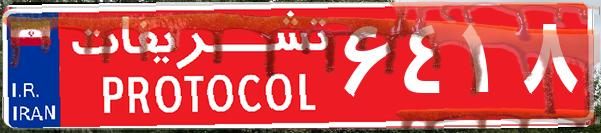1: (460, 20, 520, 115)
4: (400, 20, 460, 115)
6: (340, 20, 400, 115)
8: (520, 20, 580, 115)
تشریفات: (60, 8, 340, 125)
